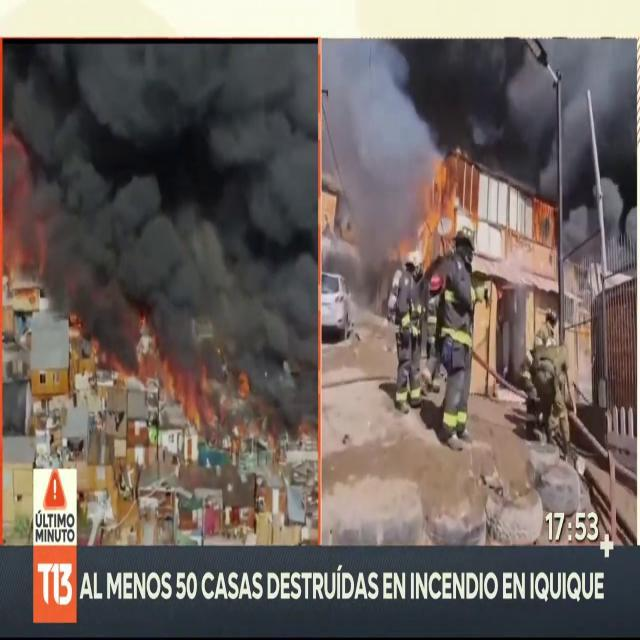Fire: (404, 148, 478, 272)
Smoke: (4, 41, 318, 382), (322, 38, 636, 245)
